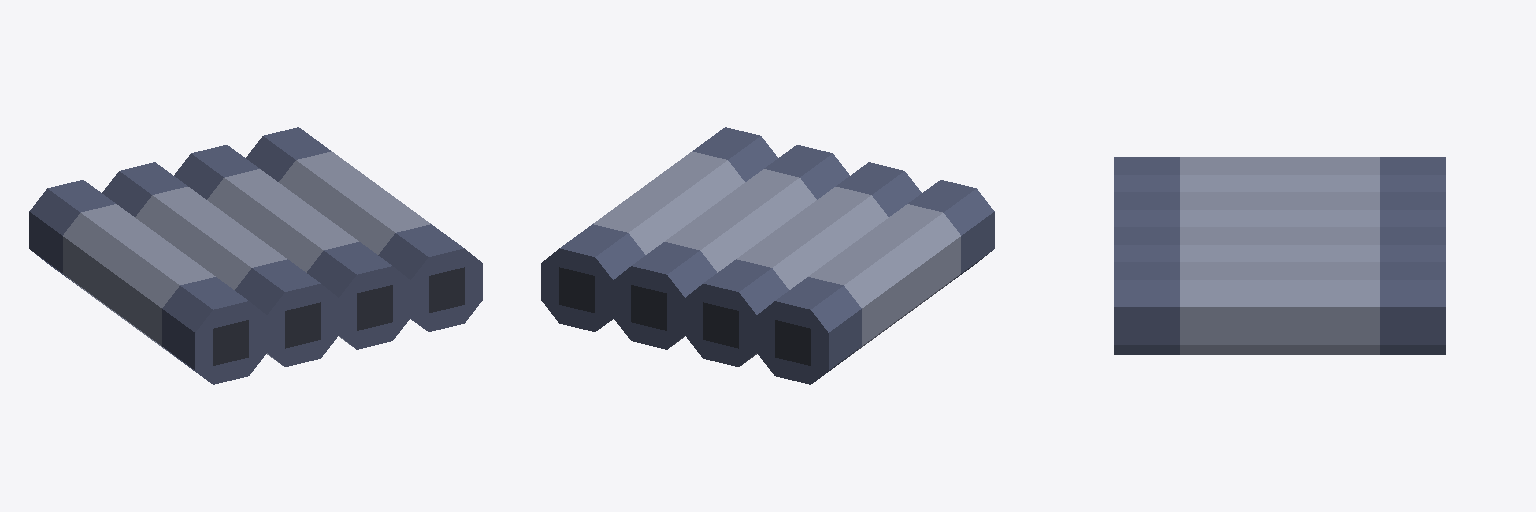
Rendered from conveyor-bars-stripe.obj.
3 views of the same model, side by side, from view 1: azimuth 30°, elevation 25°; view 2: azimuth 150°, elevation 25°; view 3: azimuth 270°, elevation 25° (orthographic).
Visible parts, largest first — view 1: conveyor-bars-stripe; view 2: conveyor-bars-stripe; view 3: conveyor-bars-stripe.
Boxes of the visible parts, x1=… form: conveyor-bars-stripe: x1=29, y1=127, x2=482, y2=384; conveyor-bars-stripe: x1=541, y1=127, x2=994, y2=384; conveyor-bars-stripe: x1=1114, y1=157, x2=1445, y2=354.
Size of the model in its own units: 1 by 0.25 by 1.